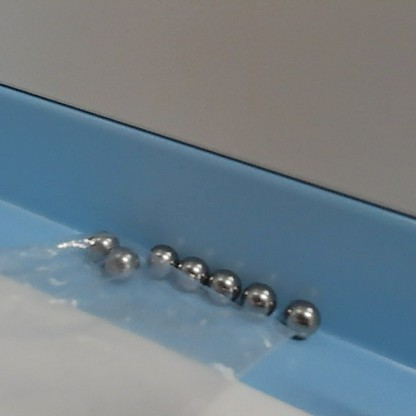ironball: (278, 295, 327, 345), (238, 274, 282, 322), (82, 228, 124, 264), (206, 265, 245, 303), (176, 252, 213, 292), (140, 239, 177, 277), (102, 244, 139, 279)
